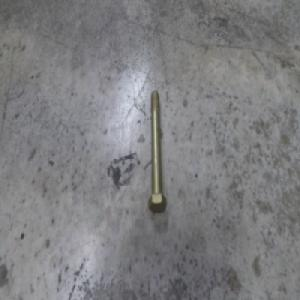Bolt: (146, 90, 167, 213)
